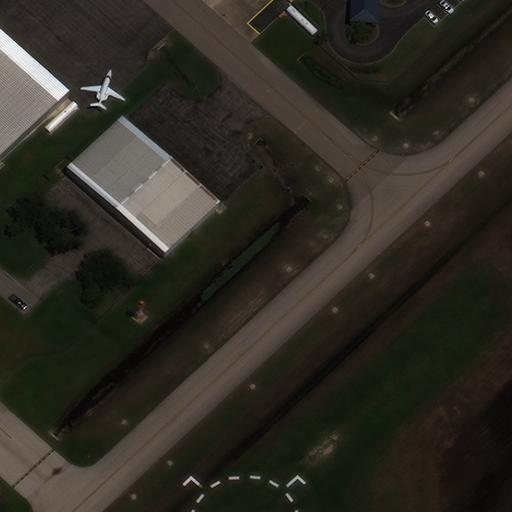Small Civil Transport: (81, 68, 125, 107)
